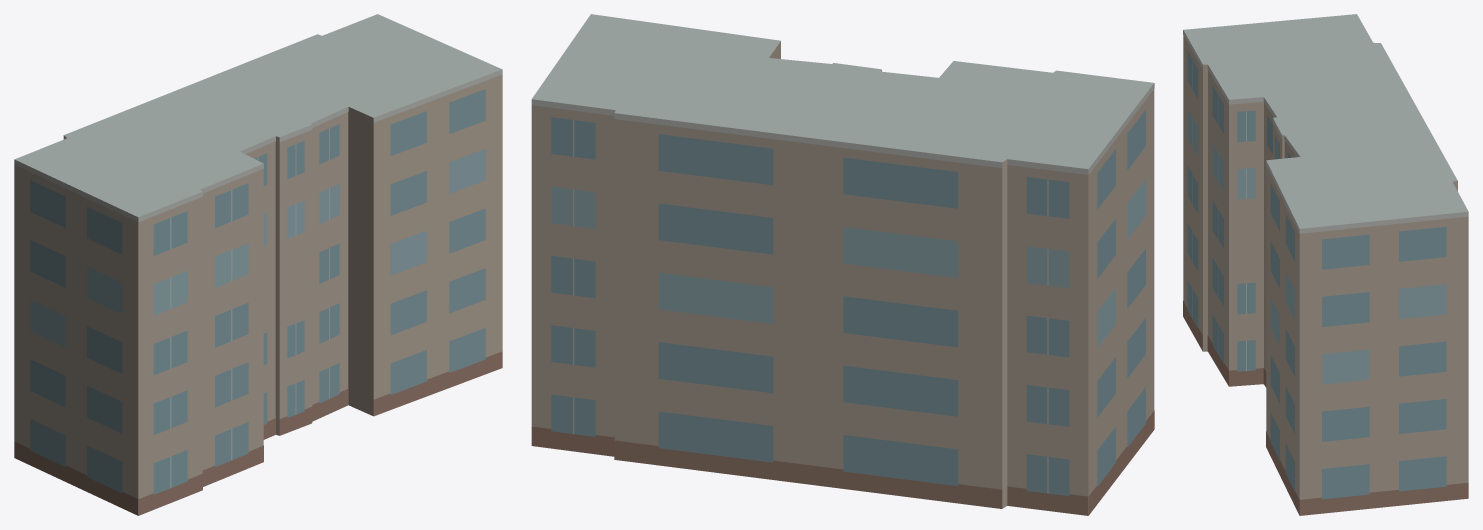
The model's file is survey-upis-32961004.glb.
3 renders of one model, left to right at view 1: azimuth 30°, elevation 25°; view 2: azimuth 150°, elevation 25°; view 3: azimuth 270°, elevation 25°, orthographic. The views are drawn at different scales.
Visible parts, largest first — view 1: survey-upis-32961004.tmp; view 2: survey-upis-32961004.tmp; view 3: survey-upis-32961004.tmp.
Part boxes in pixels (x1=…): survey-upis-32961004.tmp: x1=14, y1=14, x2=502, y2=515; survey-upis-32961004.tmp: x1=531, y1=14, x2=1154, y2=515; survey-upis-32961004.tmp: x1=1183, y1=14, x2=1468, y2=515.
Size of the model in its own units: 23.14 by 14.4 by 12.99.
